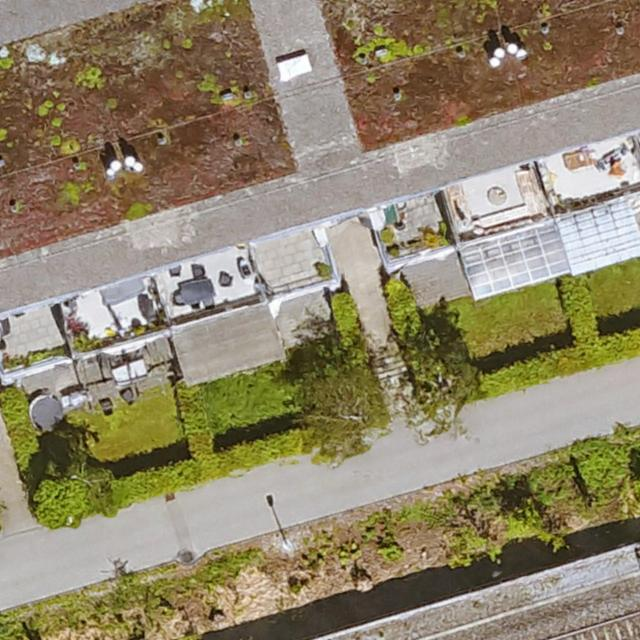tree: (378, 327, 479, 437), (294, 352, 392, 460), (30, 461, 110, 531)
